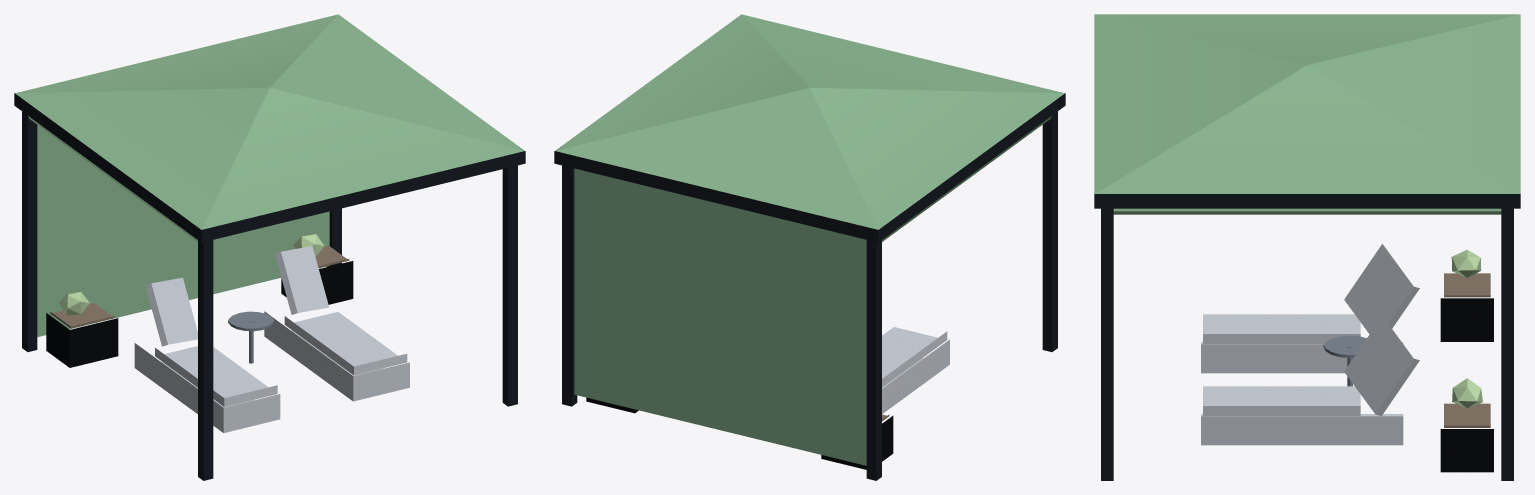
3 views of the same model, side by side, from view 1: azimuth 30°, elevation 25°; view 2: azimuth 150°, elevation 25°; view 3: azimuth 270°, elevation 25° (orthographic). The views are drawn at different scales.
Parts seen in each view (by area): view 1: Fabric_Roof, Fabric_Back_Drop, Posts, Cushions, Lounger_Frame, Eave_Beams, Planters, Planter_Soil, Foliage, Side_Table; view 2: Fabric_Back_Drop, Fabric_Roof, Posts, Eave_Beams, Cushions, Lounger_Frame, Planters; view 3: Fabric_Roof, Cushions, Lounger_Frame, Posts, Eave_Beams, Planters, Fabric_Rolls, Planter_Soil, Foliage, Side_Table.
Boxes of the visible parts, x1=… form: Fabric_Roof: x1=15, y1=14, x2=524, y2=229; Fabric_Back_Drop: x1=37, y1=125, x2=329, y2=336; Posts: x1=22, y1=111, x2=517, y2=480; Cushions: x1=145, y1=246, x2=407, y2=406; Lounger_Frame: x1=134, y1=311, x2=409, y2=432; Eave_Beams: x1=14, y1=93, x2=525, y2=242; Planters: x1=46, y1=261, x2=353, y2=367; Planter_Soil: x1=50, y1=245, x2=349, y2=328; Foliage: x1=59, y1=234, x2=324, y2=315; Side_Table: x1=228, y1=311, x2=274, y2=363; Fabric_Back_Drop: x1=574, y1=168, x2=866, y2=465; Fabric_Roof: x1=555, y1=14, x2=1064, y2=229; Posts: x1=562, y1=111, x2=1057, y2=480; Eave_Beams: x1=554, y1=93, x2=1065, y2=242; Cushions: x1=882, y1=327, x2=947, y2=387; Lounger_Frame: x1=882, y1=339, x2=949, y2=413; Planters: x1=586, y1=397, x2=893, y2=469; Fabric_Roof: x1=1094, y1=14, x2=1520, y2=193; Cushions: x1=1203, y1=244, x2=1419, y2=415; Lounger_Frame: x1=1201, y1=342, x2=1403, y2=445; Posts: x1=1101, y1=208, x2=1513, y2=480; Eave_Beams: x1=1094, y1=194, x2=1520, y2=208; Planters: x1=1440, y1=298, x2=1493, y2=472; Fabric_Rolls: x1=1113, y1=208, x2=1501, y2=214; Planter_Soil: x1=1444, y1=273, x2=1490, y2=427; Foliage: x1=1451, y1=249, x2=1482, y2=408; Side_Table: x1=1323, y1=335, x2=1366, y2=386.
Size of what is drawn, in the model's own units: 4 by 3.4 by 4.
7 materials, 4 textured.
